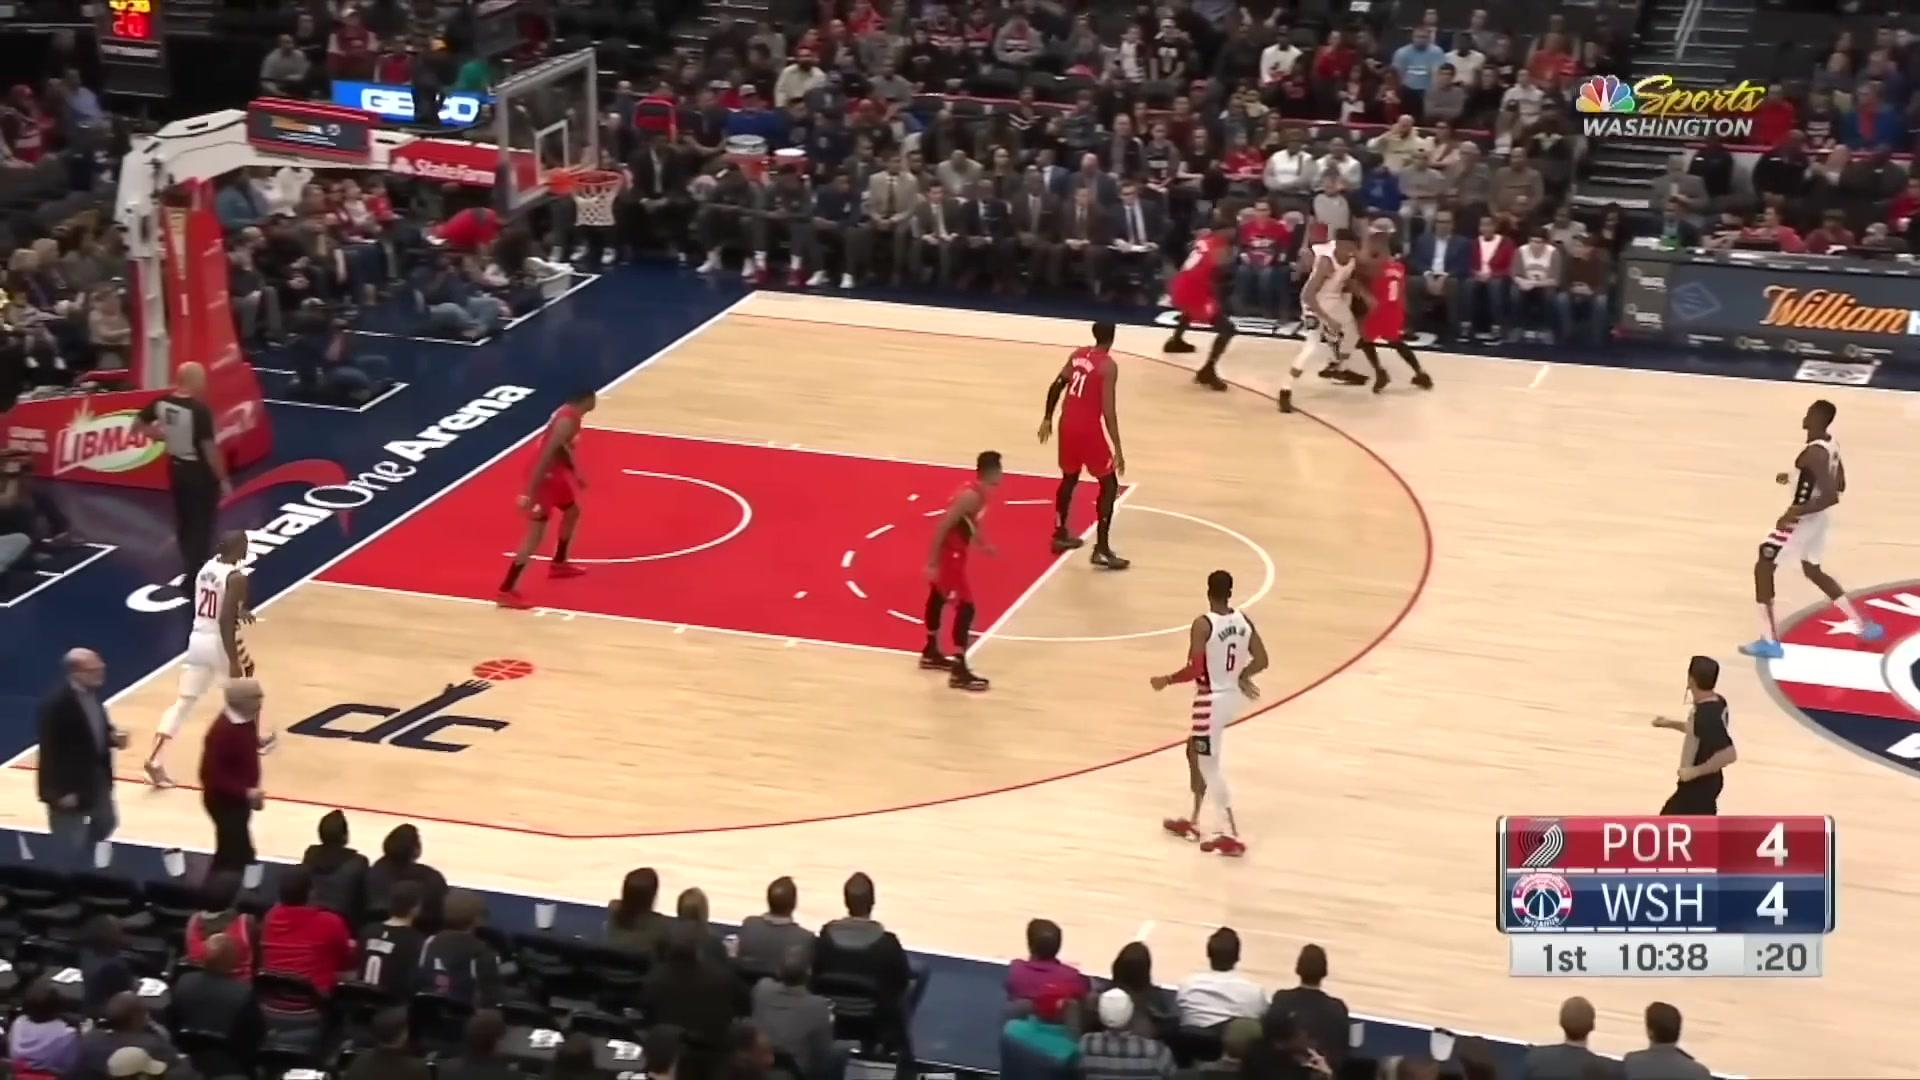foul: (1271, 225, 1468, 418)
